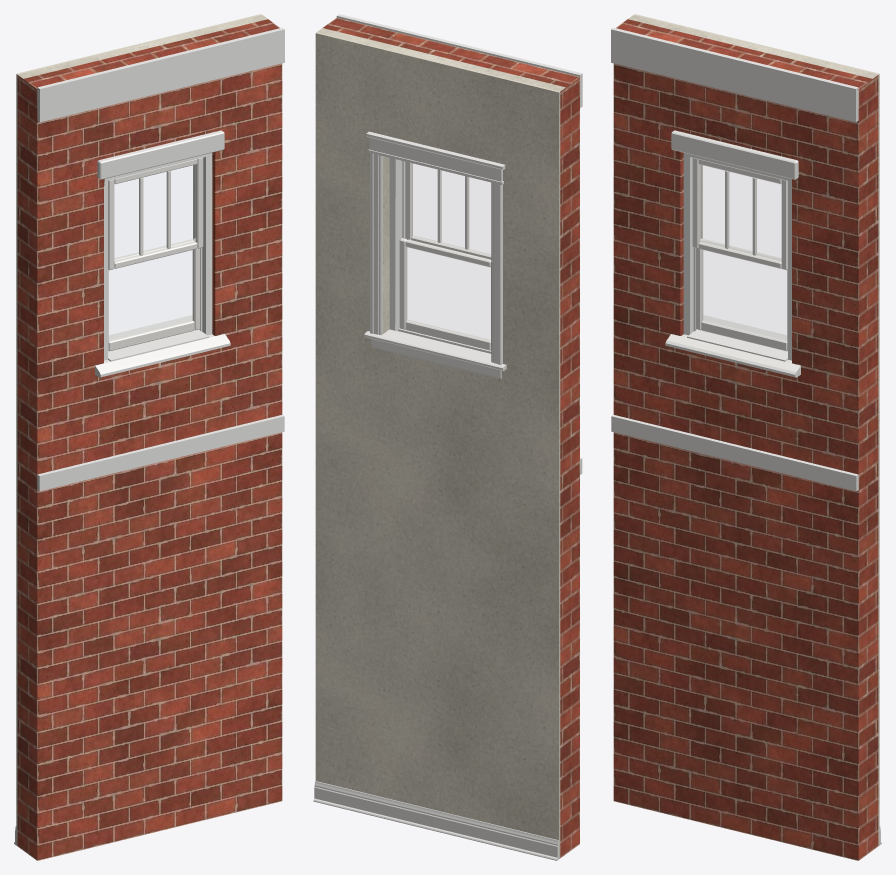
File: wall_hall_high_window.glb
The picture shows the model from 3 angles, left to right: view 1: azimuth 30°, elevation 25°; view 2: azimuth 150°, elevation 25°; view 3: azimuth 330°, elevation 25°; orthographic projection.
Parts seen in each view (by area): view 1: wall_hall_high_window_brick, wall_hall_high_window_trim, folha_glass, wall_hall_high_window_glass, wall_hall_high_window_plaster, wall_hall_high_window_sash, wall_hall_high_window_frame, folha_sash, molduras; view 2: wall_hall_high_window_plaster, wall_hall_high_window_brick, molduras, folha_glass, wall_hall_high_window_glass, wall_hall_high_window_frame, folha_sash, wall_hall_high_window_sash, wall_hall_high_window_trim; view 3: wall_hall_high_window_brick, wall_hall_high_window_trim, folha_glass, wall_hall_high_window_glass, wall_hall_high_window_plaster, wall_hall_high_window_sash, wall_hall_high_window_frame, folha_sash, molduras.
Boxes of the visible parts, left/top/right/bottom form: wall_hall_high_window_brick: left=17, top=19, right=282, bottom=860; wall_hall_high_window_trim: left=37, top=27, right=284, bottom=491; folha_glass: left=109, top=250, right=192, bottom=340; wall_hall_high_window_glass: left=115, top=165, right=195, bottom=260; wall_hall_high_window_plaster: left=16, top=14, right=267, bottom=845; wall_hall_high_window_sash: left=108, top=157, right=203, bottom=270; wall_hall_high_window_frame: left=104, top=153, right=212, bottom=360; folha_sash: left=108, top=238, right=199, bottom=351; molduras: left=14, top=165, right=193, bottom=844; wall_hall_high_window_plaster: left=315, top=28, right=565, bottom=858; wall_hall_high_window_brick: left=323, top=17, right=579, bottom=857; molduras: left=313, top=131, right=558, bottom=860; folha_glass: left=407, top=248, right=490, bottom=339; wall_hall_high_window_glass: left=412, top=164, right=490, bottom=254; wall_hall_high_window_frame: left=389, top=158, right=491, bottom=353; folha_sash: left=399, top=238, right=491, bottom=350; wall_hall_high_window_sash: left=405, top=161, right=491, bottom=259; wall_hall_high_window_trim: left=336, top=14, right=582, bottom=474; wall_hall_high_window_brick: left=613, top=19, right=878, bottom=860; wall_hall_high_window_trim: left=611, top=27, right=858, bottom=491; folha_glass: left=703, top=250, right=786, bottom=340; wall_hall_high_window_glass: left=700, top=165, right=780, bottom=260; wall_hall_high_window_plaster: left=628, top=14, right=879, bottom=845; wall_hall_high_window_sash: left=692, top=157, right=787, bottom=270; wall_hall_high_window_frame: left=683, top=153, right=791, bottom=360; folha_sash: left=696, top=238, right=787, bottom=351; molduras: left=702, top=165, right=881, bottom=844.
Bounding box in the file's own units: 2 × 6.03 × 0.43.
Materials: 6 (2 with a texture image).
